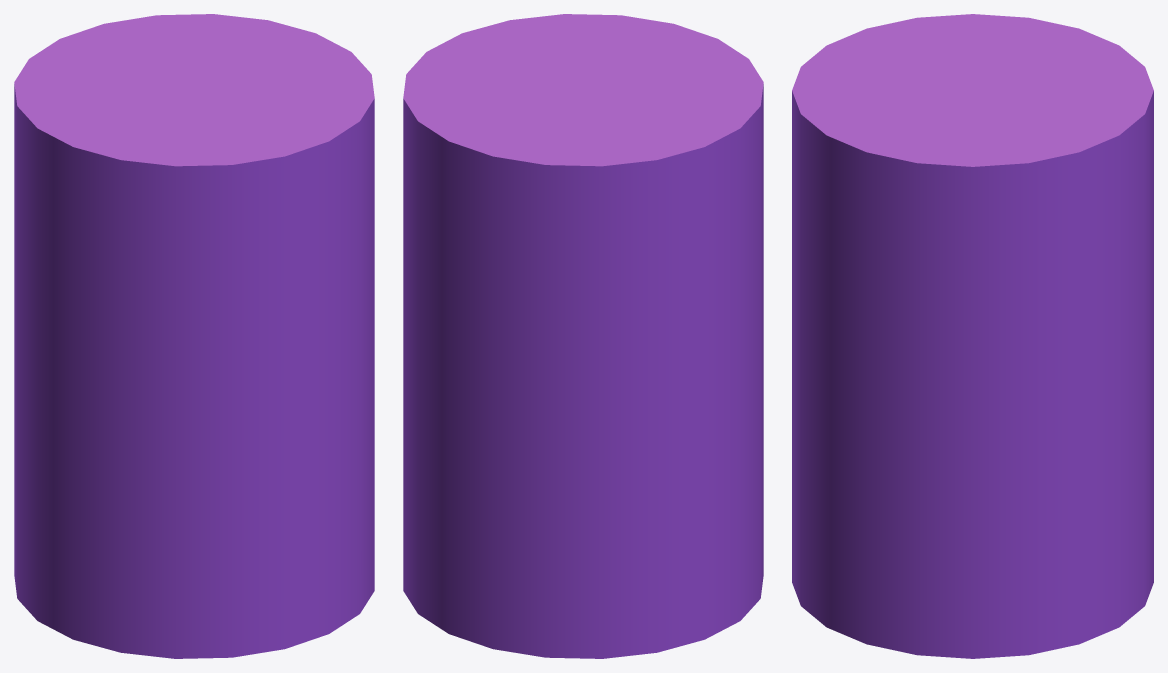
File: meshCylinderCorner.fbx
The picture shows the model from 3 angles, left to right: view 1: azimuth 30°, elevation 25°; view 2: azimuth 150°, elevation 25°; view 3: azimuth 270°, elevation 25°; orthographic projection.
Parts seen in each view (by area): view 1: meshCylinderCorner; view 2: meshCylinderCorner; view 3: meshCylinderCorner.
Boxes of the visible parts, <box> form: meshCylinderCorner: <box>14,14,374,658</box>; meshCylinderCorner: <box>403,14,763,658</box>; meshCylinderCorner: <box>792,14,1153,658</box>.
Bounding box in the file's own units: 2 × 3 × 2.
Materials: 1 (1 with a texture image).
